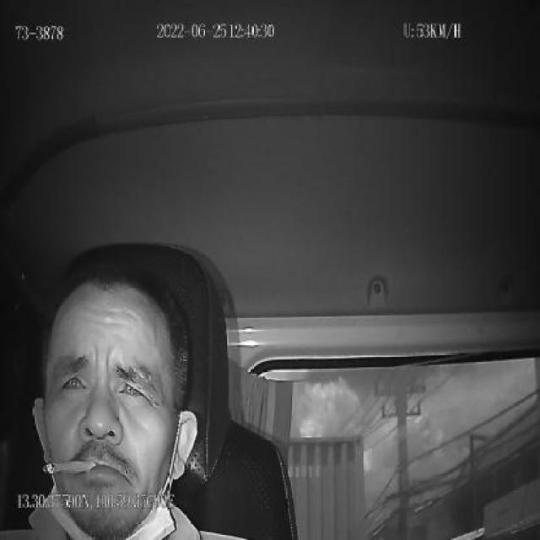smoking: (43, 457, 97, 475)
